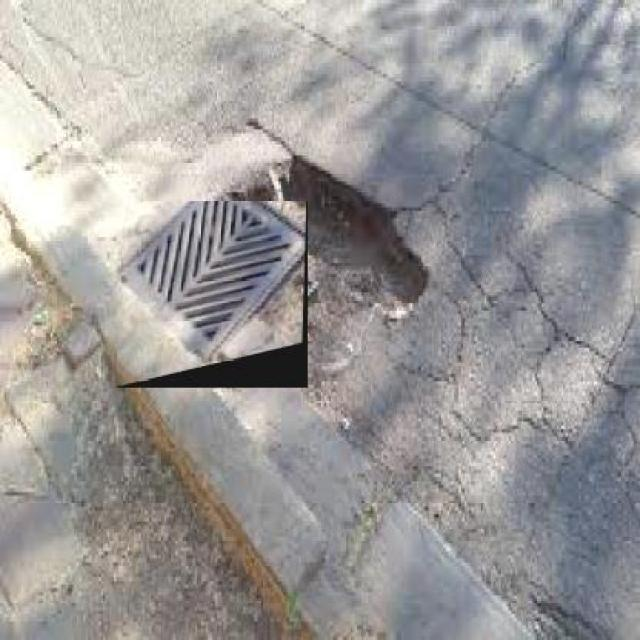Manhole: (117, 200, 308, 388)
Pothole: (310, 153, 434, 378), (527, 588, 620, 640), (215, 152, 308, 198)
